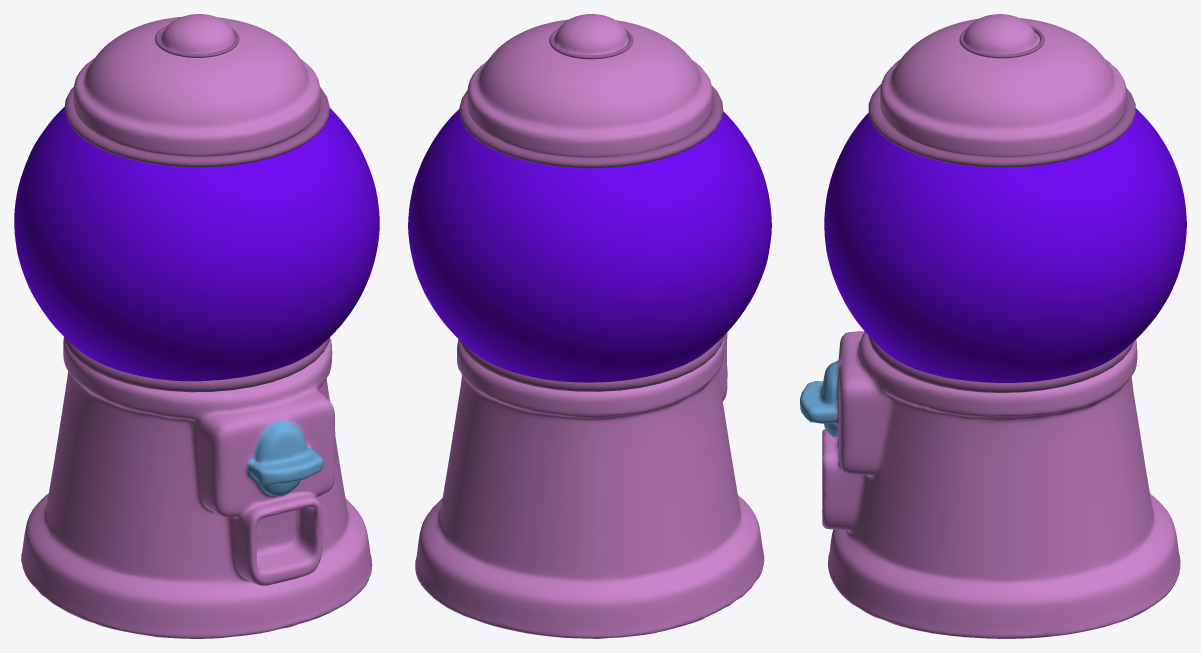
File: gumMechine.fbx
The picture shows the model from 3 angles, left to right: view 1: azimuth 30°, elevation 25°; view 2: azimuth 150°, elevation 25°; view 3: azimuth 270°, elevation 25°; orthographic projection.
Visible parts, largest first — view 1: pasted__pasted__model, pasted__pasted__model2, pTorus2, pTorus1, pTorus3; view 2: pasted__pasted__model, pasted__pasted__model2, pTorus2, pTorus1, pTorus3; view 3: pasted__pasted__model, pasted__pasted__model2, pTorus2, pTorus1, pTorus3.
Boxes of the visible parts, x1,y1,x2,y2 form: pasted__pasted__model: (14, 14, 379, 638); pasted__pasted__model2: (14, 14, 379, 638); pTorus2: (64, 87, 329, 167); pTorus1: (64, 337, 329, 392); pTorus3: (154, 25, 239, 57); pasted__pasted__model: (408, 14, 771, 638); pasted__pasted__model2: (408, 14, 771, 638); pTorus2: (459, 85, 723, 168); pTorus1: (459, 336, 723, 391); pTorus3: (549, 28, 633, 59); pasted__pasted__model: (800, 14, 1186, 638); pasted__pasted__model2: (800, 15, 1186, 638); pTorus2: (868, 84, 1135, 167); pTorus1: (868, 336, 1133, 392); pTorus3: (959, 25, 1044, 58).
Bounding box in the file's own units: 3.4 × 5.69 × 3.61.
